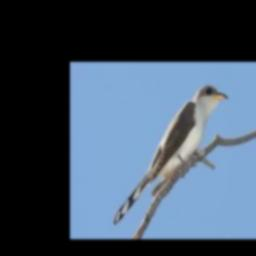Cuckoo: (113, 84, 228, 226)
